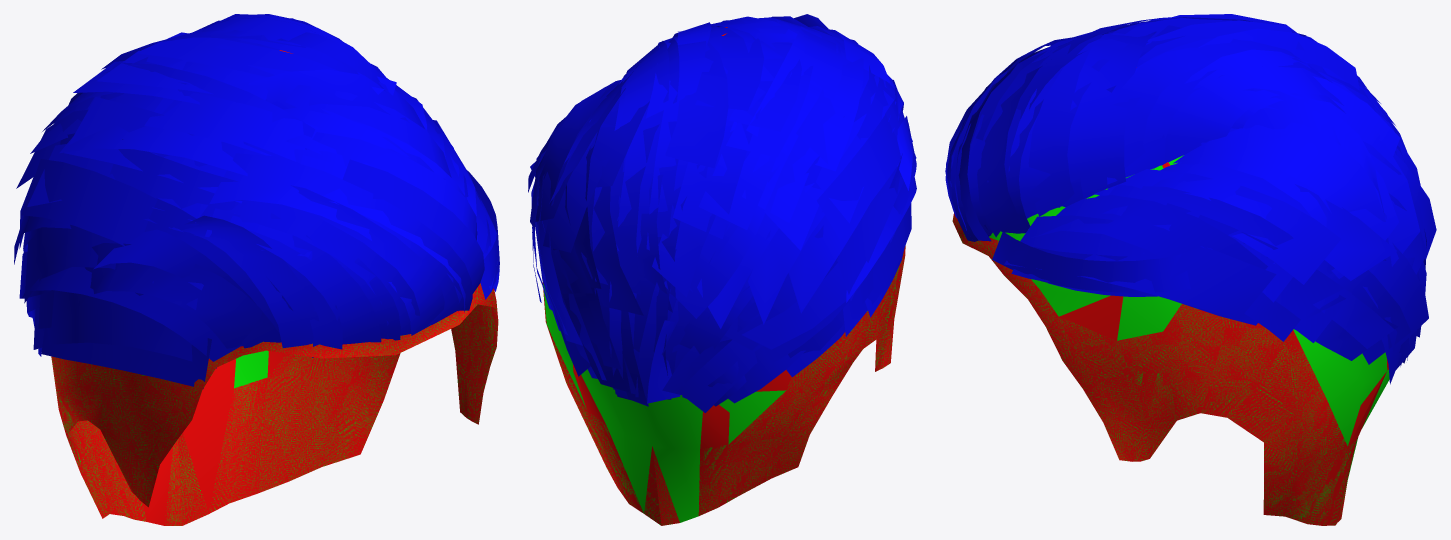
Rendered from hair_011.obj.
3 views of the same model, side by side, from view 1: azimuth 30°, elevation 25°; view 2: azimuth 150°, elevation 25°; view 3: azimuth 270°, elevation 25° (orthographic). The views are drawn at different scales.
Bounding box in the file's own units: 18.41 × 23.26 × 21.45.
